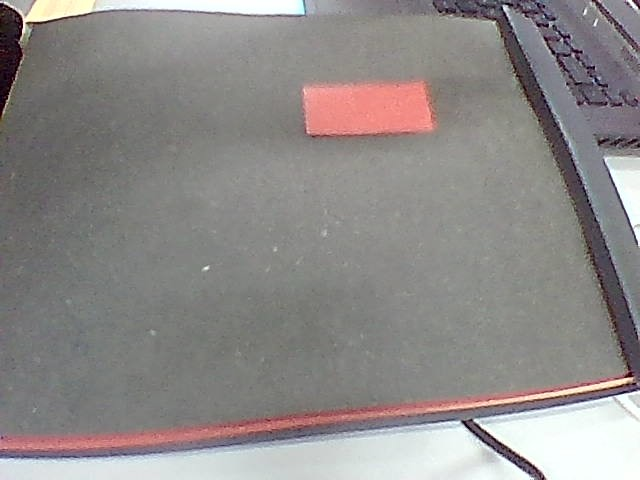card: (303, 81, 436, 136)
